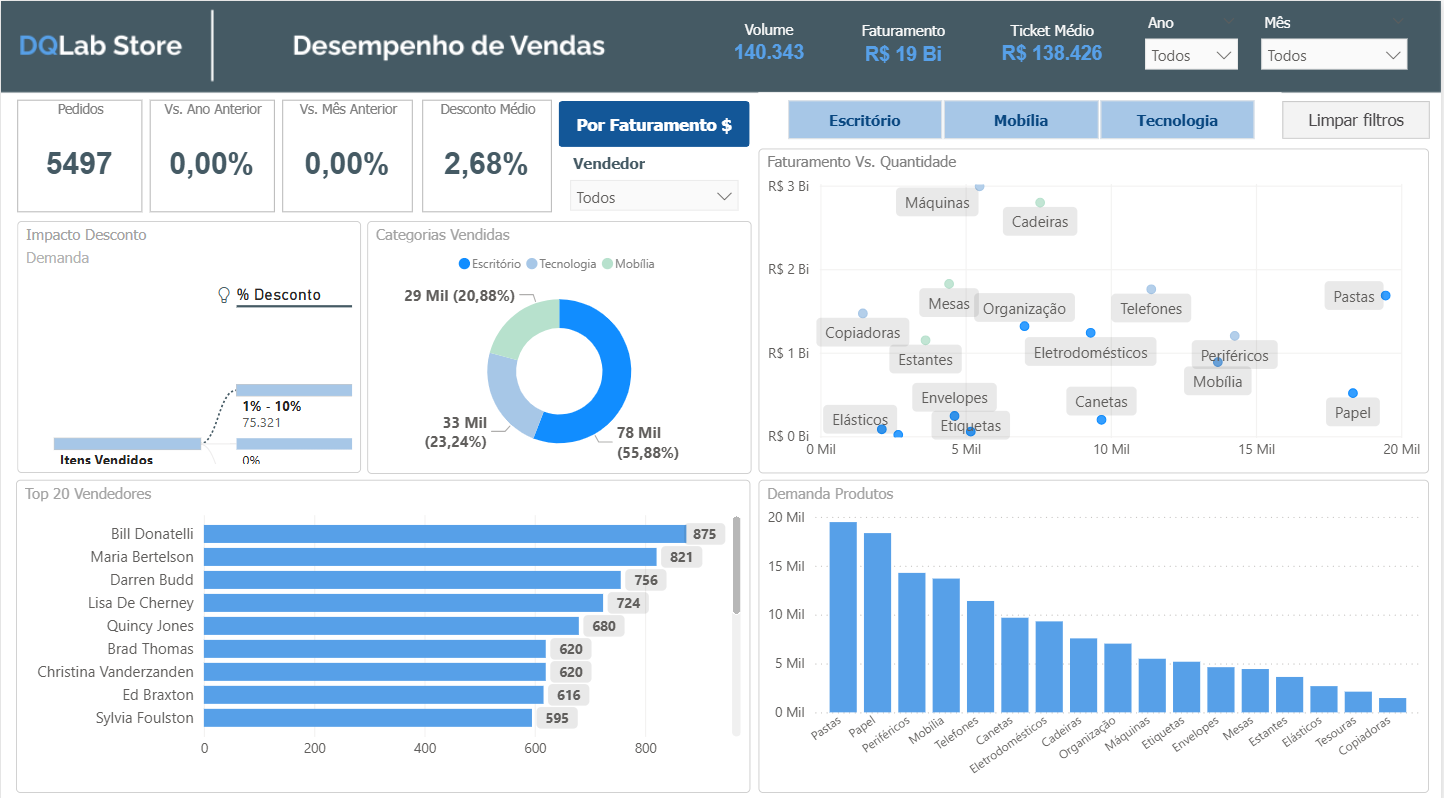

Layout of this report page (visuals, bound fields, positions):
{"tool":"powerbi","page":{"name":"Por Itens Vendidos","canvas":[1280,720],"ordinal":0},"visuals":[{"type":"card","title":"Volume","fields":{"Values":["Consulta8.quantidade_itens_vendidos"]},"box":[614.4,16.7,136.7,50],"z":0},{"type":"card","title":"Faturamento","fields":{"Values":["Consulta8.total_vendas"]},"box":[740,17.8,124.4,50],"z":1000},{"type":"slicer","fields":{"Values":["TabelaMeses.MesNome","TabelaMeses.MesNumero"]},"box":[1110,5.7,150,60],"z":2000},{"type":"card","title":"Ticket Médio","fields":{"Values":["Consulta8.TicketMedio"]},"box":[878.9,17.8,111.1,48.9],"z":3000},{"type":"clusteredBarChart","title":"Top Vendedores","fields":{"Category":["Consulta8.vendedor"],"Y":["Consulta8.quantidade_itens_vendidos"]},"box":[13.8,425,652.5,278.8],"z":4000},{"type":"decompositionTreeVisual","title":"Impacto Desconto","fields":{"ExplainBy":["Consulta3.faixa_desconto"],"Analyze":["Consulta3.itens_total"]},"box":[14.3,195.7,305.7,224.3],"z":5000},{"type":"clusteredColumnChart","title":"Demanda Produtos","fields":{"Category":["Consulta1.subcategoria"],"Y":["Consulta1.itens_total"]},"box":[673.8,425,596.2,278.8],"z":6000},{"type":"donutChart","title":"Categorias Vendidas","fields":{"Category":["Consulta5.categoria_produto"],"Y":["Consulta5.itens_total"]},"box":[325,195,341.4,225],"z":7000},{"type":"scatterChart","title":"Faturamento Vs. Quantidade","fields":{"Y":["Consulta1.total_vendas"],"X":["Consulta1.itens_total"],"Category":["Consulta1.subcategoria"]},"box":[673.8,131.2,596.2,288.8],"z":8000},{"type":"slicer","fields":{"Values":["TabelaAnos.Ano"]},"box":[1007.1,5.7,102.9,60],"z":9000},{"type":"pageNavigator","box":[495.7,88.6,170,41.4],"z":10000},{"type":"card","title":"Vs. Mês Anterior","fields":{"Values":["ItensVsFaturamento.Crescimento % Mês Itens"]},"box":[250,88,116,100],"z":11000},{"type":"card","title":"Vs. Ano Anterior","fields":{"Values":["ItensVsFaturamento.Crescimento % Ano Itens"]},"box":[132,88,111,100],"z":12000},{"type":"card","title":"Pedidos","fields":{"Values":["PedidosUnicosPorMes.pedidos_unicos"]},"box":[14,88,111,100],"z":13000},{"type":"card","title":"Desconto Médio","fields":{"Values":["ImpactoDesconto.Desconto Médio"]},"box":[374,88,115,100],"z":14000},{"type":"slicer","fields":{"Values":["VendasPorCategoria.categoria_produto"]},"box":[673.8,81.2,465,48.8],"z":15000},{"type":"slicer","fields":{"Values":["RankingVendedores.vendedor"]},"box":[495.7,131.4,170,57.1],"z":16000},{"type":"actionButton","box":[1138.8,88.8,131.2,33.8],"z":17000}]}

Visuals, with their boxes in screenshot pixels (x1, y1, x2, y2), scaled from the page's 1280x720 canvas onto the 1444x798 screenshot:
"Volume" card: [693,19,847,74]
"Faturamento" card: [835,20,975,75]
slicer - TabelaMeses.MesNome x TabelaMeses.MesNumero: [1252,6,1421,73]
"Ticket Médio" card: [992,20,1117,74]
"Top Vendedores" clusteredBarChart: [16,471,752,780]
"Impacto Desconto" decompositionTreeVisual: [16,217,361,466]
"Demanda Produtos" clusteredColumnChart: [760,471,1433,780]
"Categorias Vendidas" donutChart: [367,216,752,466]
"Faturamento Vs. Quantidade" scatterChart: [760,145,1433,466]
slicer - TabelaAnos.Ano: [1136,6,1252,73]
pageNavigator: [559,98,751,144]
"Vs. Mês Anterior" card: [282,98,413,208]
"Vs. Ano Anterior" card: [149,98,274,208]
"Pedidos" card: [16,98,141,208]
"Desconto Médio" card: [422,98,552,208]
slicer - VendasPorCategoria.categoria_produto: [760,90,1285,144]
slicer - RankingVendedores.vendedor: [559,146,751,209]
actionButton: [1285,98,1433,136]
